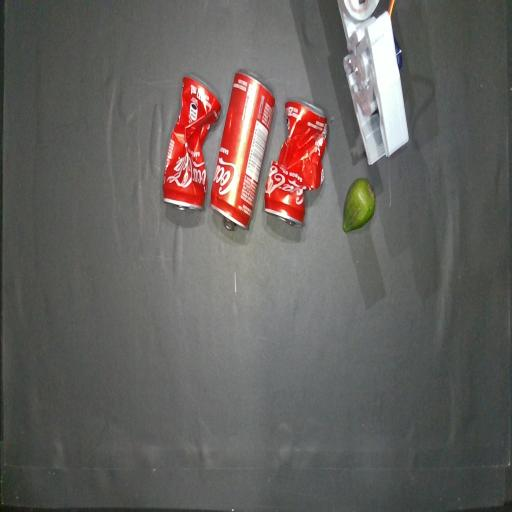higo: (343, 178, 375, 232)
lata: (210, 70, 275, 230)
lata_defectuoso: (264, 100, 327, 226), (163, 75, 221, 210)
